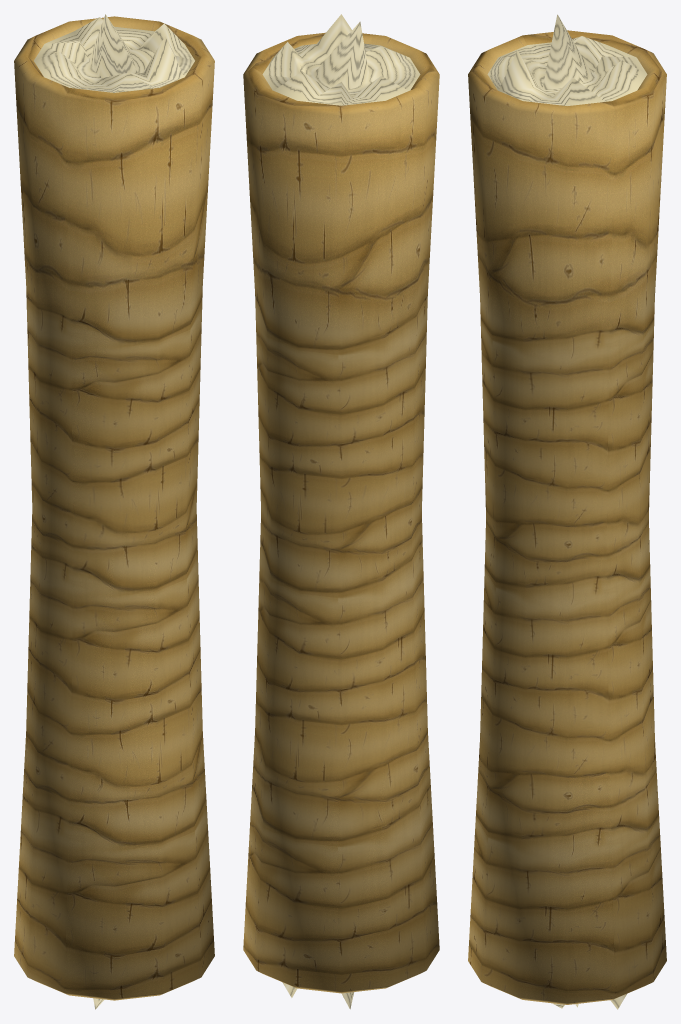
File: PalmLog.FBX
The picture shows the model from 3 angles, left to right: view 1: azimuth 30°, elevation 25°; view 2: azimuth 150°, elevation 25°; view 3: azimuth 270°, elevation 25°; orthographic projection. The views are drawn at different scales.
Visible parts, largest first — view 1: Cylinder001; view 2: Cylinder001; view 3: Cylinder001.
Boxes of the visible parts, x1,y1,x2,y2 form: Cylinder001: [14, 14, 214, 1009]; Cylinder001: [243, 14, 439, 1009]; Cylinder001: [468, 14, 666, 1009].
Size of the model in its own units: 99.33 by 547 by 99.33.
